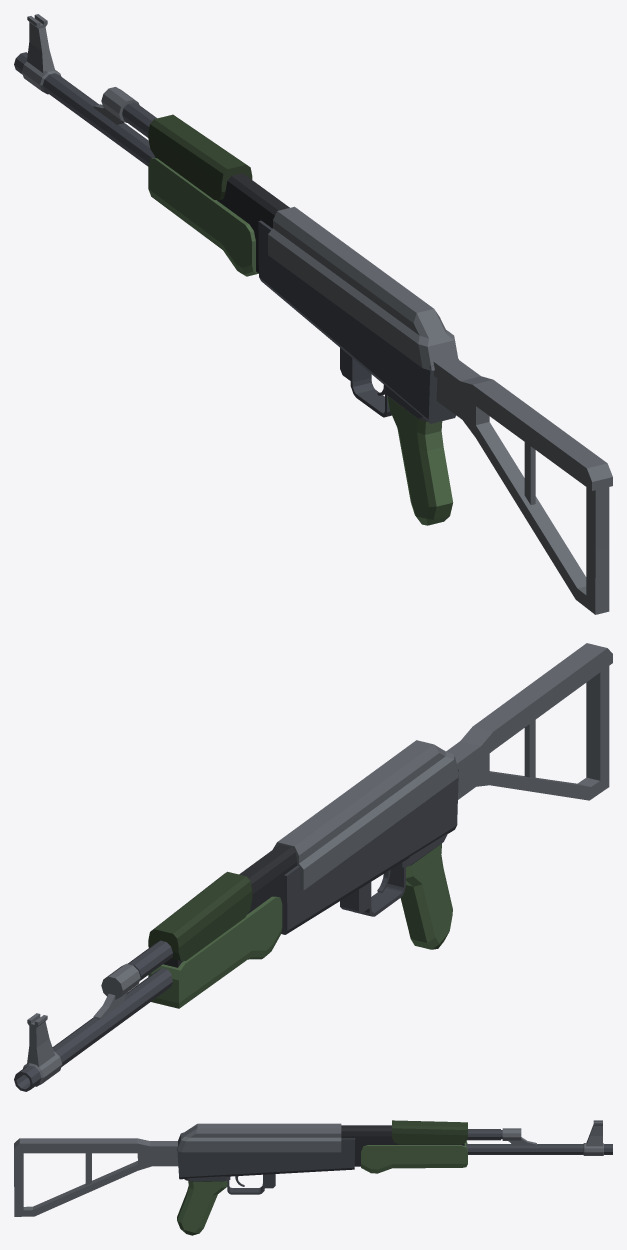
File: burst_rifle.glb
The picture shows the model from 3 angles, top to bottom: view 1: azimuth 30°, elevation 25°; view 2: azimuth 150°, elevation 25°; view 3: azimuth 270°, elevation 25°; orthographic projection. The views are drawn at different scales.
Visible parts, largest first — view 1: burst_rifle; view 2: burst_rifle; view 3: burst_rifle.
Part boxes in pixels (box(x1,y1,x2,y2)): burst_rifle: box(14, 14, 612, 614); burst_rifle: box(14, 643, 612, 1091); burst_rifle: box(14, 1120, 612, 1235).
Bounding box in the file's own units: 0.0285 × 0.1649 × 0.8.
